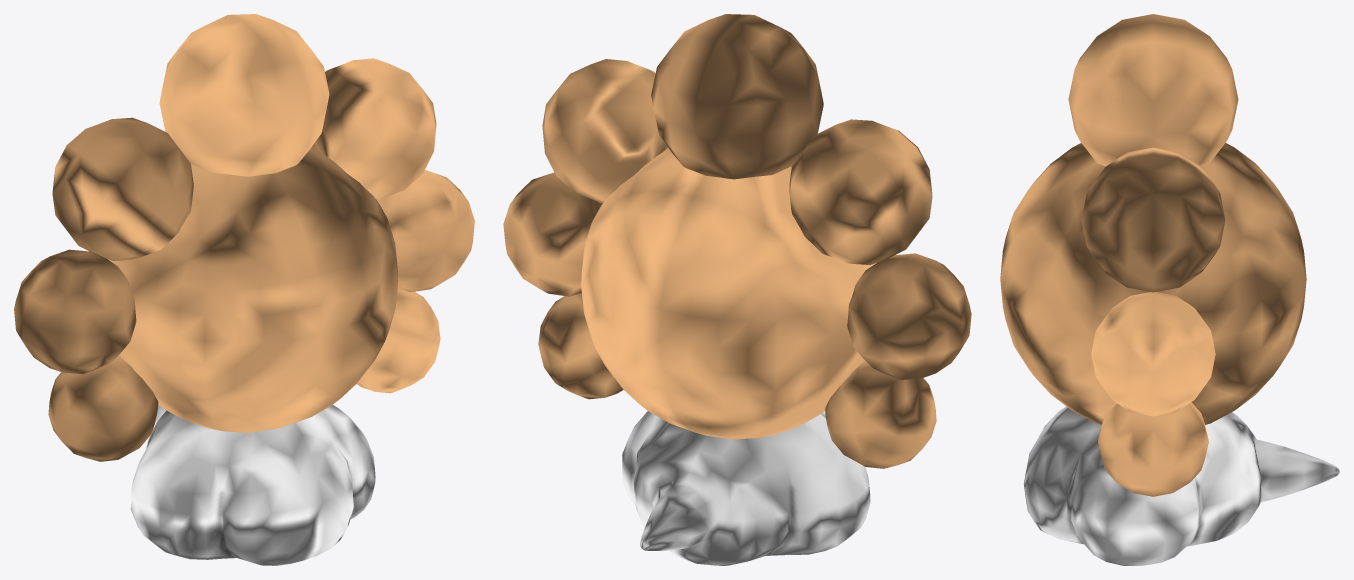
The model's file is XY_CastformSunny.obj.
3 views of the same model, side by side, from view 1: azimuth 30°, elevation 25°; view 2: azimuth 150°, elevation 25°; view 3: azimuth 270°, elevation 25° (orthographic).
Visible parts, largest first — view 1: CastformSunny; view 2: CastformSunny; view 3: CastformSunny.
Boxes of the visible parts, <box> form: CastformSunny: <box>14,14,474,565</box>; CastformSunny: <box>503,14,971,565</box>; CastformSunny: <box>1000,14,1339,565</box>.
Bounding box in the file's own units: 38.72 × 42.84 × 25.63.
